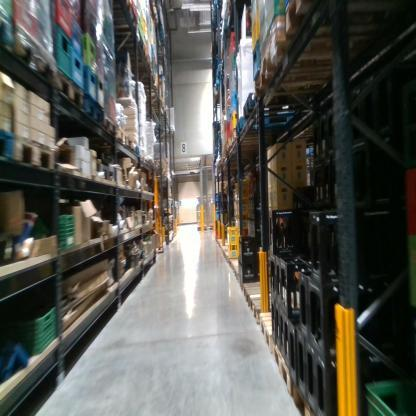pallets: (238, 279, 362, 416), (1, 127, 97, 181), (53, 75, 122, 133)
